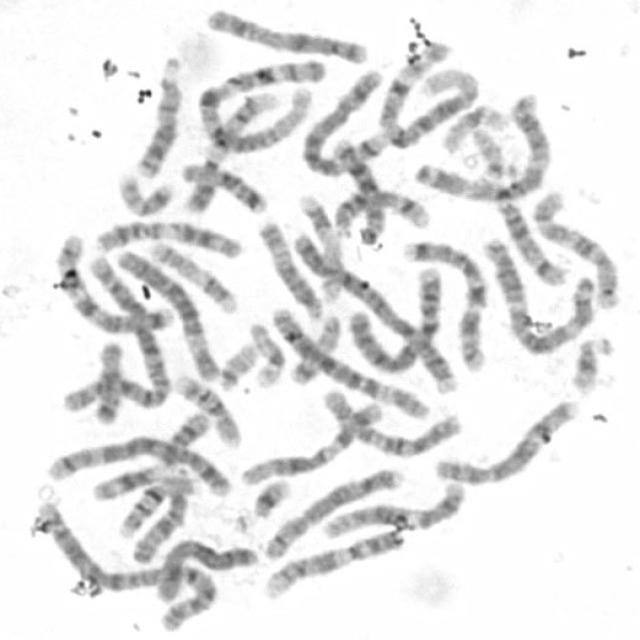A1: (192, 52, 329, 155), (374, 41, 482, 150)
A2: (27, 496, 221, 636), (54, 255, 172, 418)
A3: (407, 88, 555, 202), (478, 233, 599, 356)
B4: (290, 229, 461, 395), (343, 260, 446, 374)
B5: (42, 432, 233, 498), (298, 62, 389, 179)
C10: (527, 185, 624, 311), (316, 382, 466, 460)
C11: (85, 408, 214, 504), (90, 212, 248, 258)
C12: (233, 396, 386, 488), (317, 476, 468, 540)
C6: (264, 300, 433, 422), (110, 241, 222, 384)
C7: (47, 227, 179, 336), (398, 232, 495, 375)
C8: (258, 462, 407, 562), (429, 394, 586, 487)
C9: (179, 87, 280, 215), (256, 523, 412, 602)
D13: (129, 50, 187, 180), (326, 129, 390, 246)
D14: (492, 191, 572, 287), (328, 184, 434, 238)
D15: (253, 215, 326, 320), (124, 476, 192, 566)
E16: (170, 368, 242, 447), (114, 472, 197, 540)
E17: (146, 233, 240, 315), (292, 187, 348, 301)
E18: (176, 157, 269, 215), (90, 336, 128, 425)
F19: (438, 98, 512, 154), (245, 318, 288, 389)
F20: (286, 310, 343, 387), (110, 167, 177, 218)
G21: (565, 330, 617, 396), (246, 474, 294, 520)
G22: (214, 335, 262, 392), (468, 124, 509, 182)
X: (200, 2, 369, 64), (148, 533, 260, 603)
